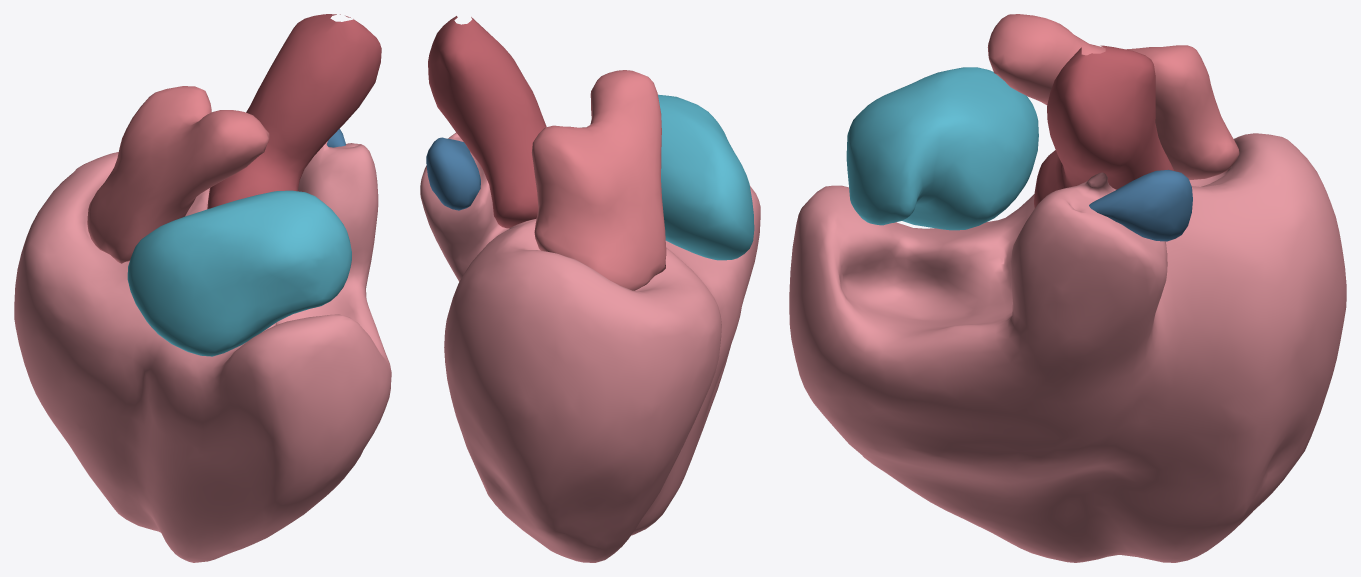
Rendered from frame_61.glb.
3 views of the same model, side by side, from view 1: azimuth 30°, elevation 25°; view 2: azimuth 150°, elevation 25°; view 3: azimuth 270°, elevation 25° (orthographic). The views are drawn at different scales.
Visible parts, largest first — view 1: Renderer Node; view 2: Renderer Node; view 3: Renderer Node.
Part boxes in pixels (x1,y1,x2,y2): Renderer Node: [14, 14, 391, 562]; Renderer Node: [420, 16, 760, 562]; Renderer Node: [789, 14, 1346, 562].
Bounding box in the file's own units: 107 × 164 × 137.
